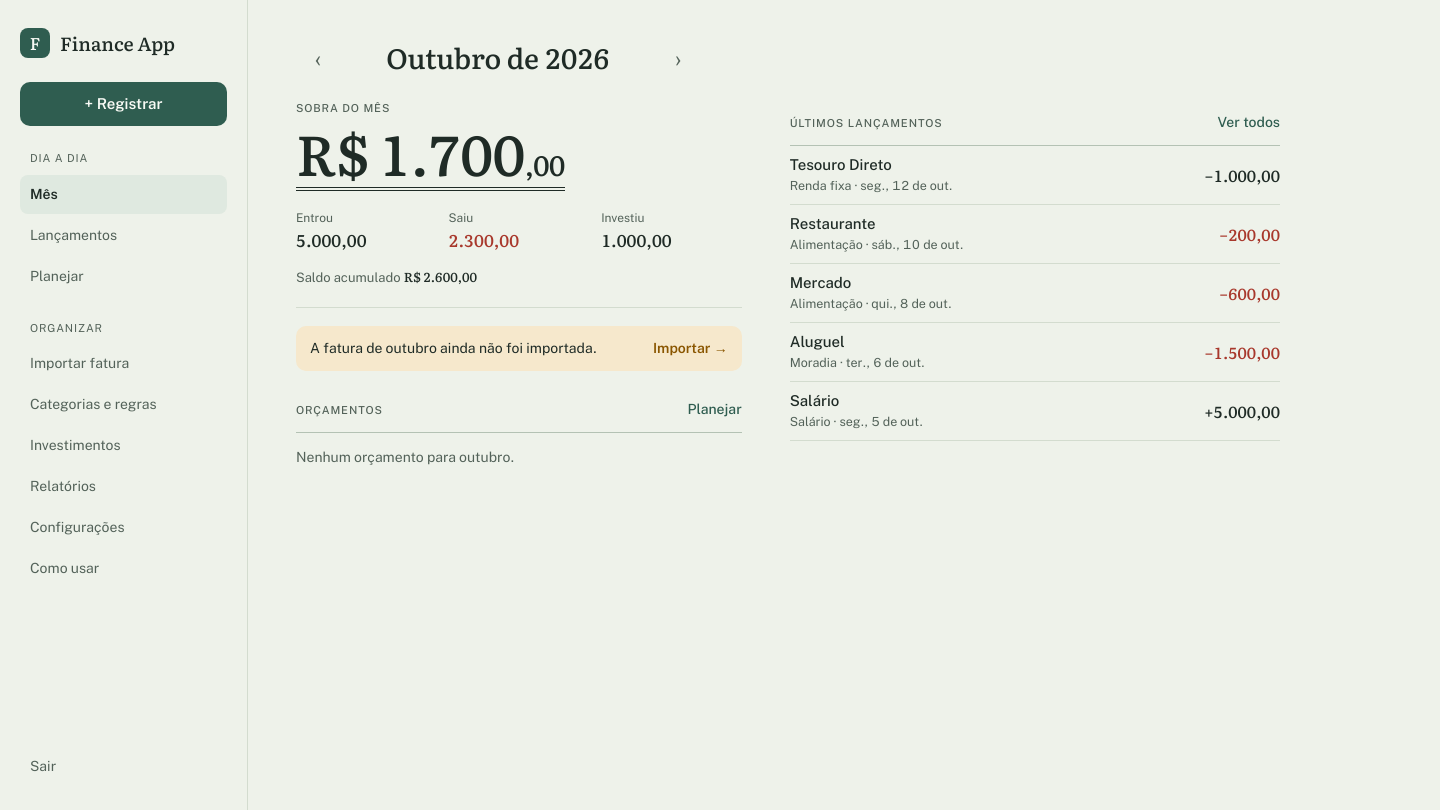
Test: Mês (página inicial) › troca de mês pelas setas
expect the text "5.000,00" is shown: met, box [296,227,367,252]
Step 1. Click the button named "Mês anterior" → x=318, y=58, box [296,36,340,80]
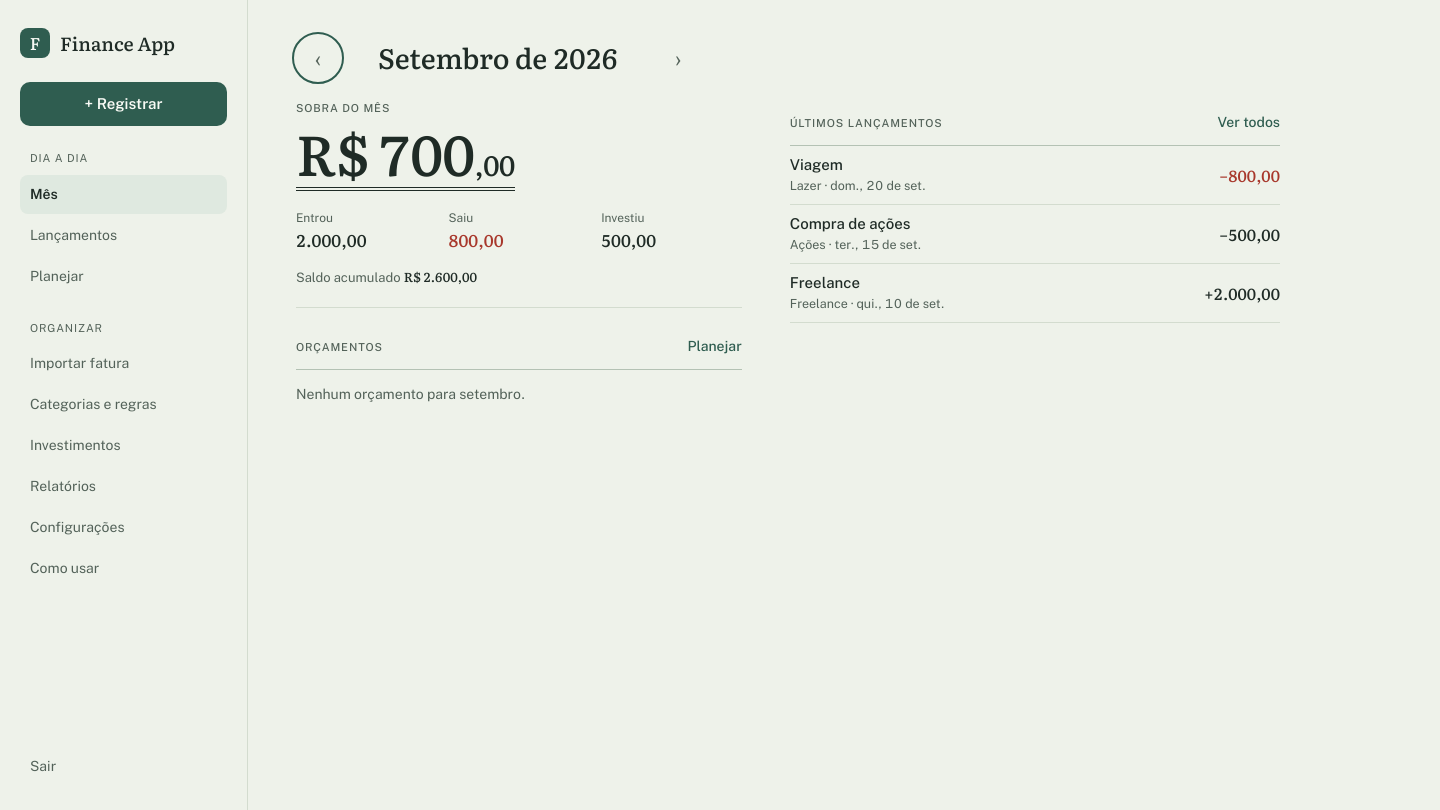
expect the heading "setembro de 2026" is shown: met, box [378,36,618,78]
expect the text "2.000,00" is shown: met, box [296,227,367,252]
expect the text "800,00" is shown: met, box [449,227,504,252]
Step 2. Click the button named "Próximo mês" → x=678, y=58, box [656,36,700,80]
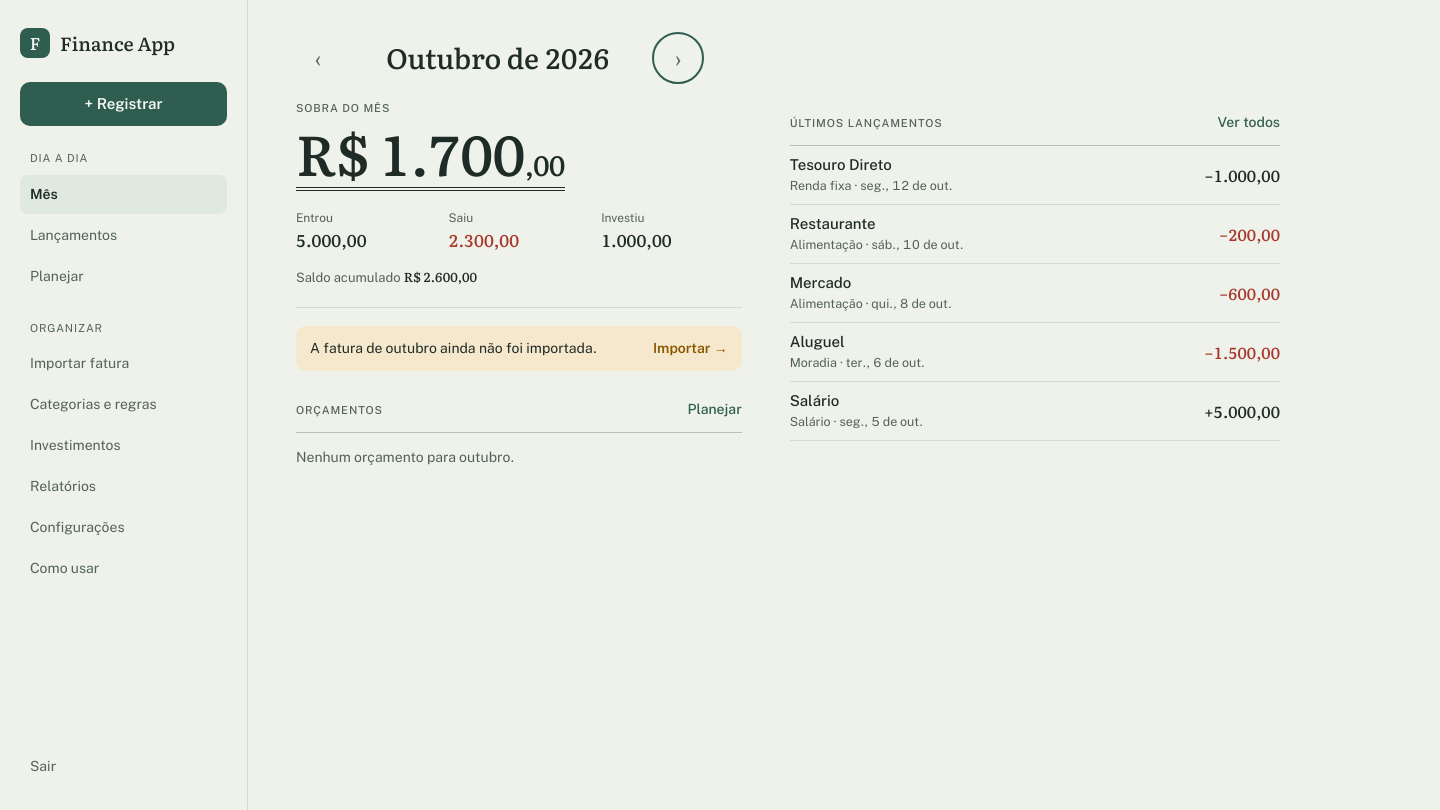
Step 3. Click the button named "Próximo mês" → x=678, y=58, box [656,36,700,80]
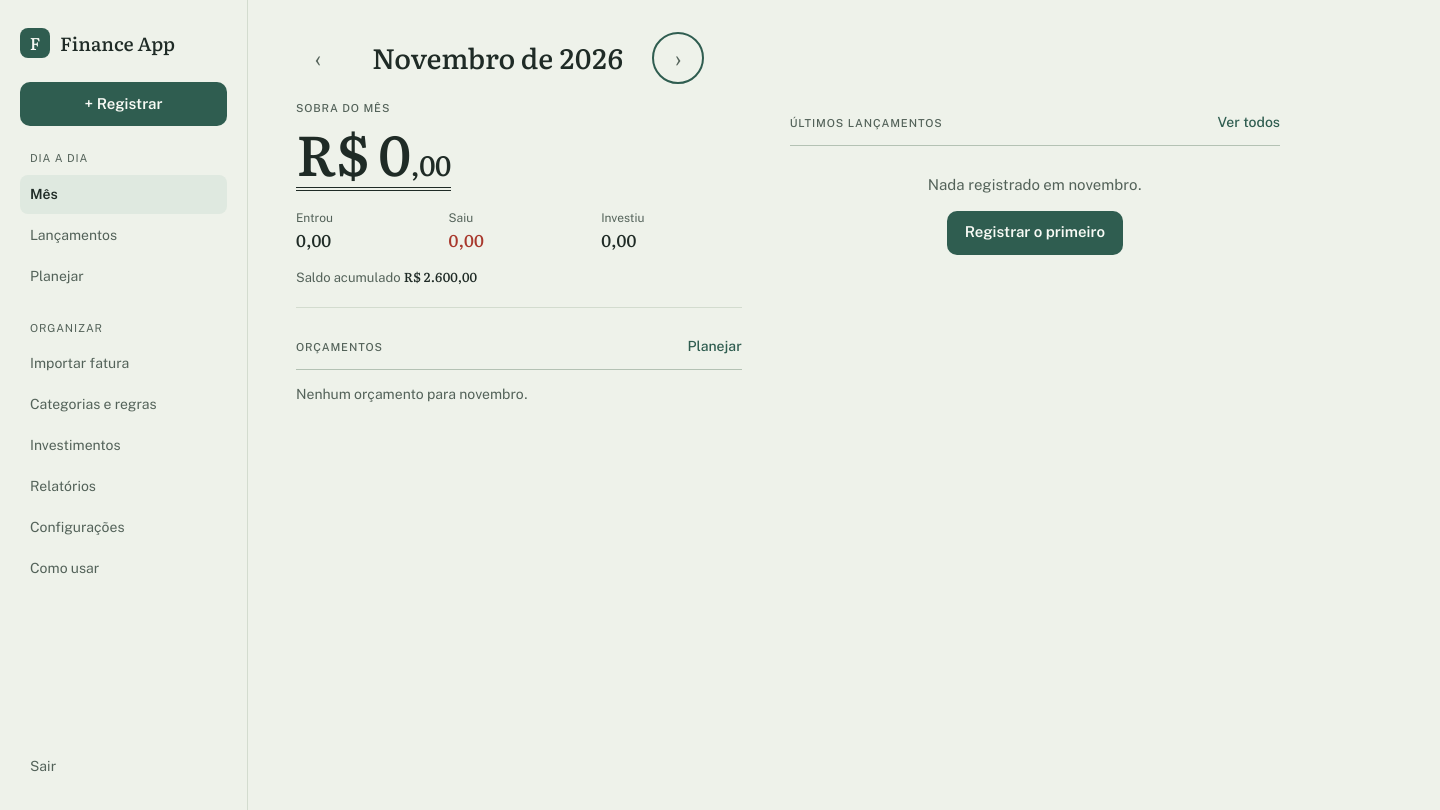
expect the heading "novembro de 2026" is shown: met, box [372,36,624,78]
expect the text "Nada registrado em novembro." is shown: met, box [928,174,1142,196]
